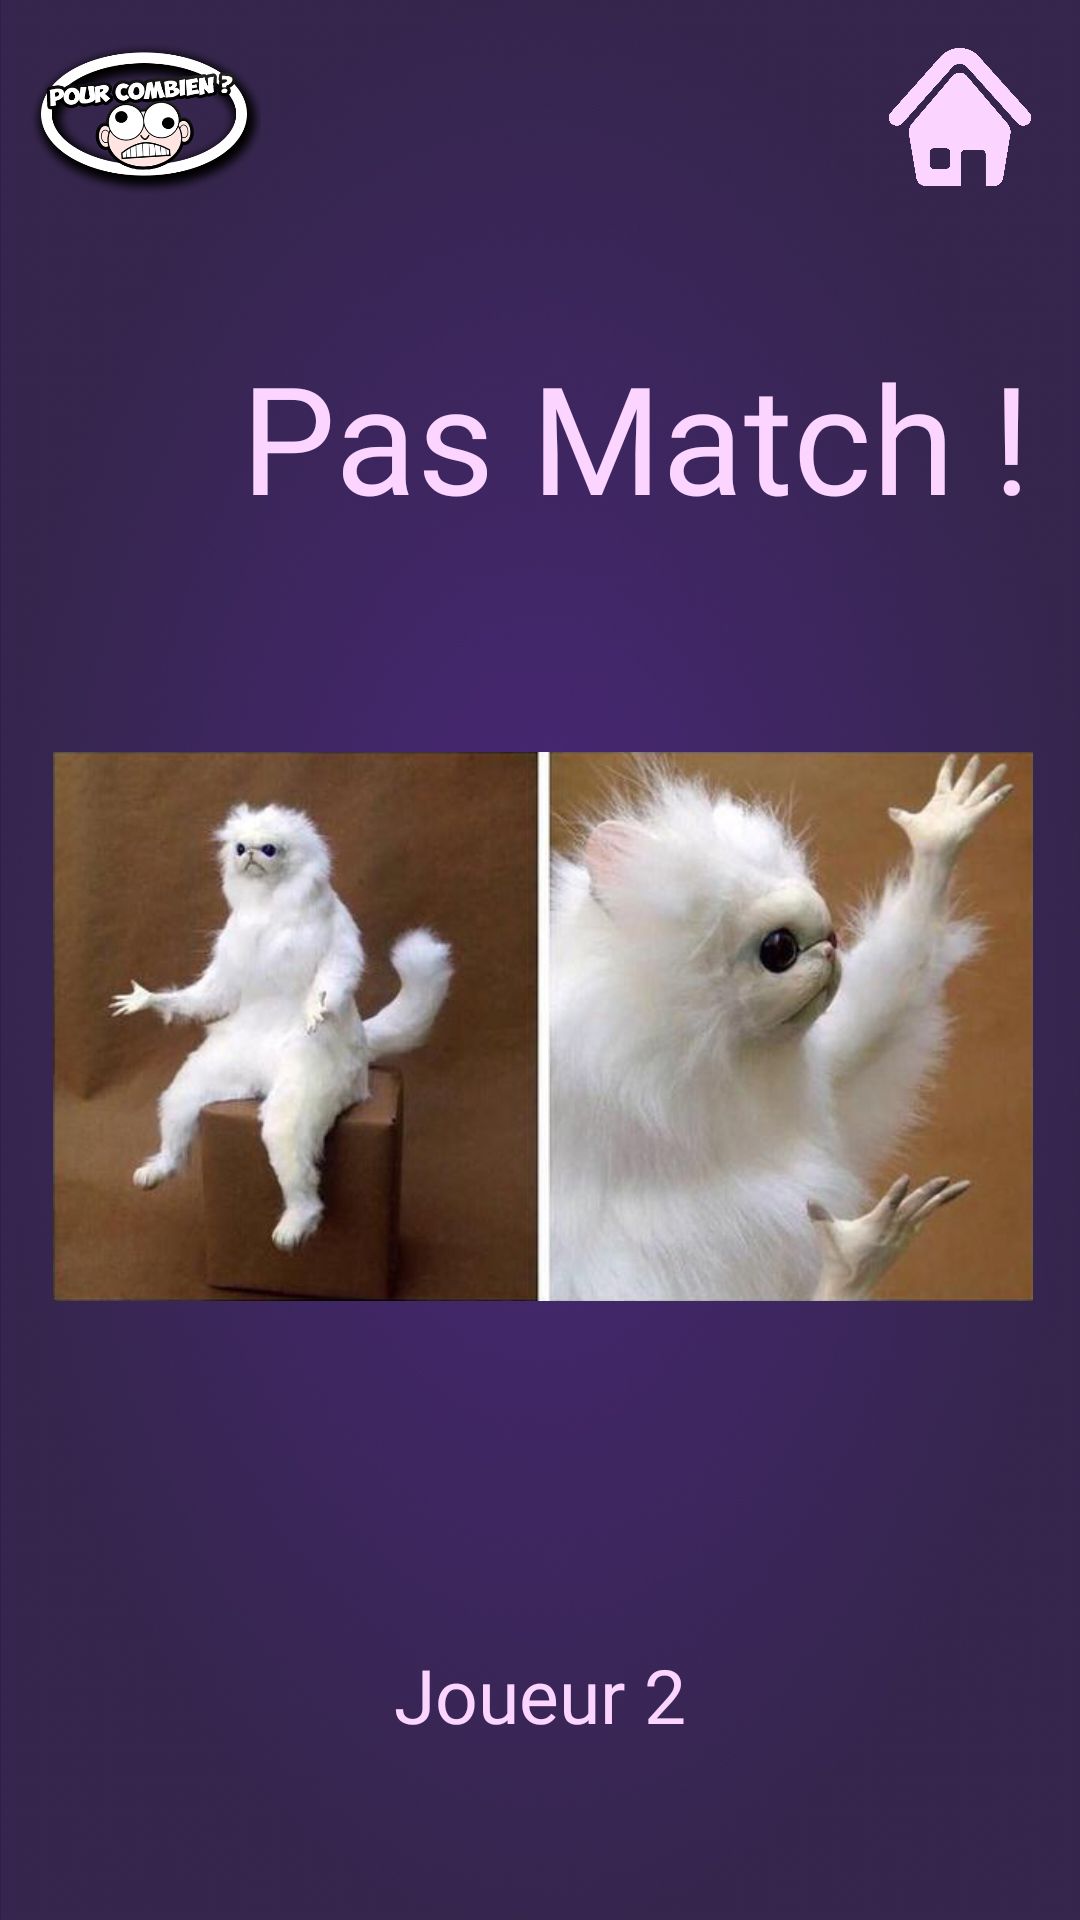

Point at icon controls on the screen. Image size 1080px×1920px, points as [x,y].
Bouton pour retourner à la page d'accueil: [960,117]
